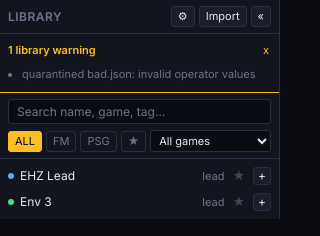
Test case: LibraryPanel › renders scan warnings in a dismissible strip
expect the list item "quarantined bad.json: invalid operator values" is shown: met, box x1=22 y1=64 x2=271 y2=84
expect the text "1 library warning" is shown: met, box x1=8 y1=40 x2=96 y2=60
Click the button titled "Dismiss". click: (266, 50)
box: x1=261 y1=43 x2=271 y2=57
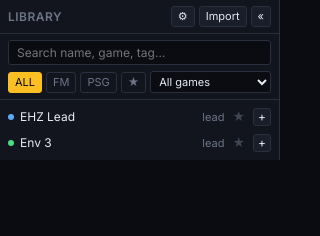
expect the list item "quarantined bad.json: invalid operator values" is gone: met
